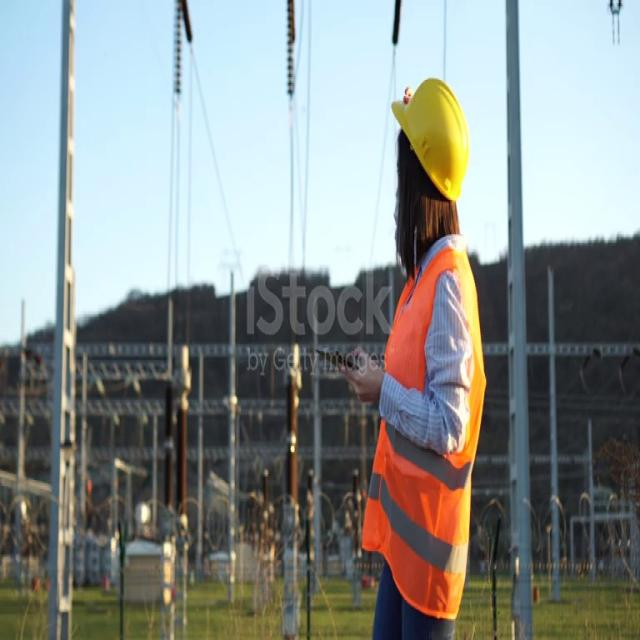capacete: (384, 67, 478, 228)
